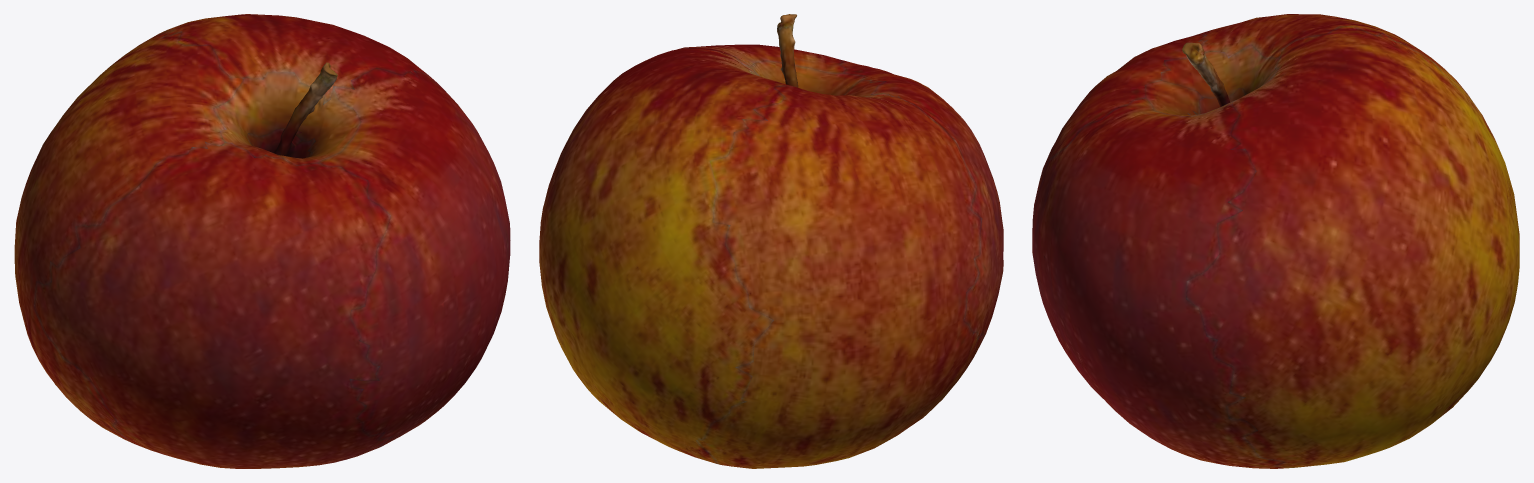
Rendered from ph_food_apple_01.glb.
3 renders of one model, left to right at view 1: azimuth 30°, elevation 25°; view 2: azimuth 150°, elevation 25°; view 3: azimuth 270°, elevation 25°, orthographic. The views are drawn at different scales.
Parts seen in each view (by area): view 1: food_apple_01; view 2: food_apple_01; view 3: food_apple_01.
Part boxes in pixels (x1,y1,x2,y2): food_apple_01: (14, 14, 510, 468); food_apple_01: (539, 14, 1003, 468); food_apple_01: (1032, 14, 1519, 468).
Bounding box in the file's own units: 0.0976 × 0.0854 × 0.0959.
1 material, 1 textured.
